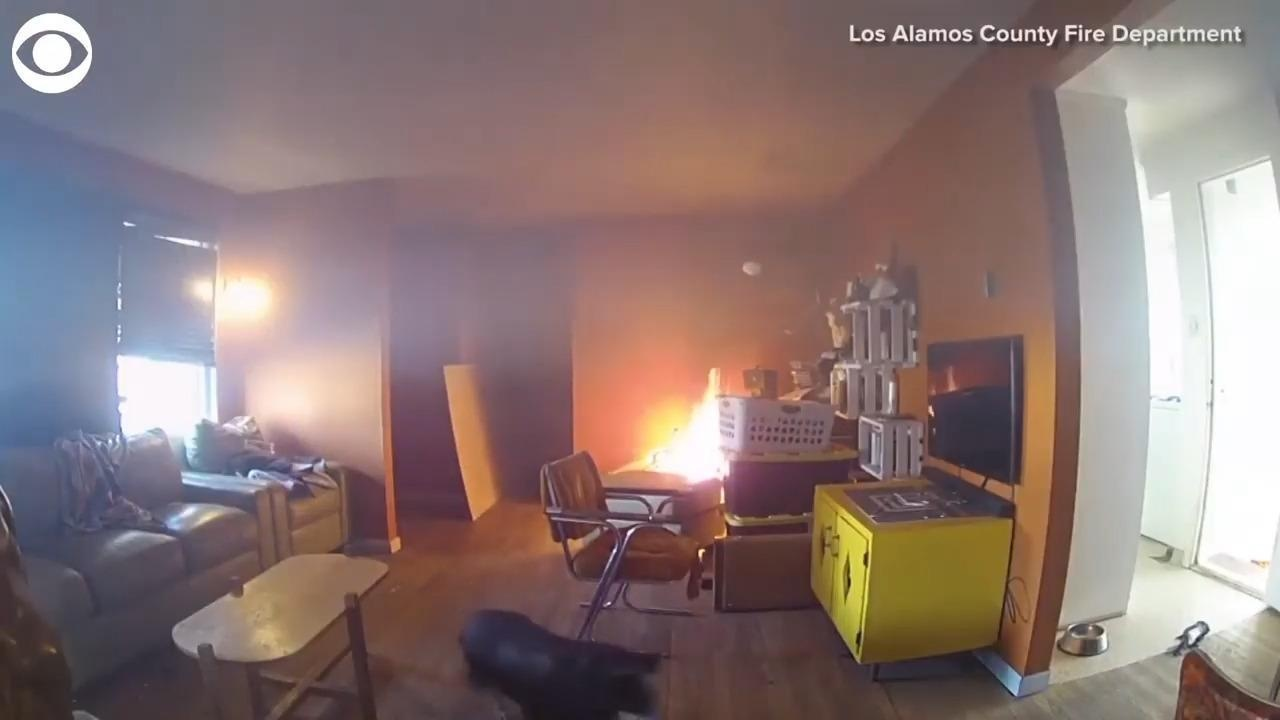fire: (632, 385, 739, 508)
